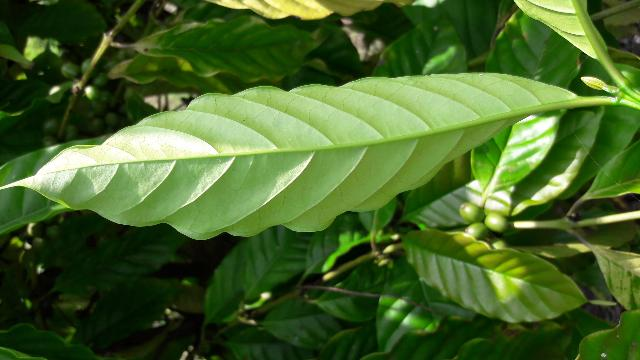healthy: (1, 71, 585, 238)
